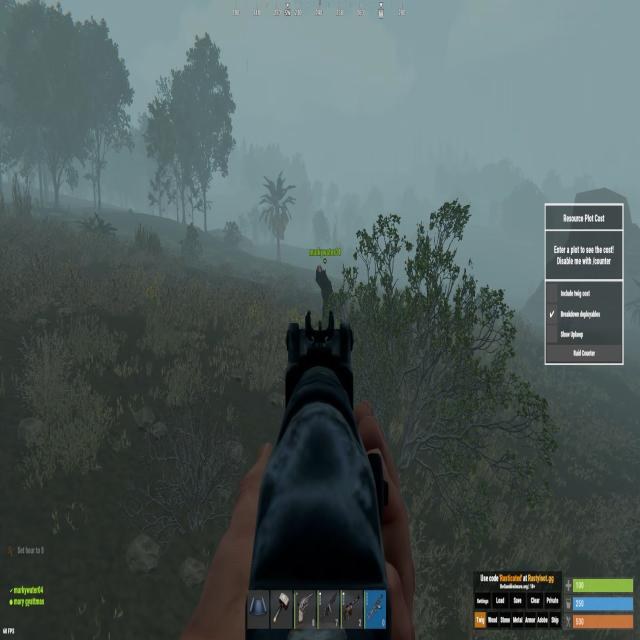Player: (315, 264, 336, 330)
